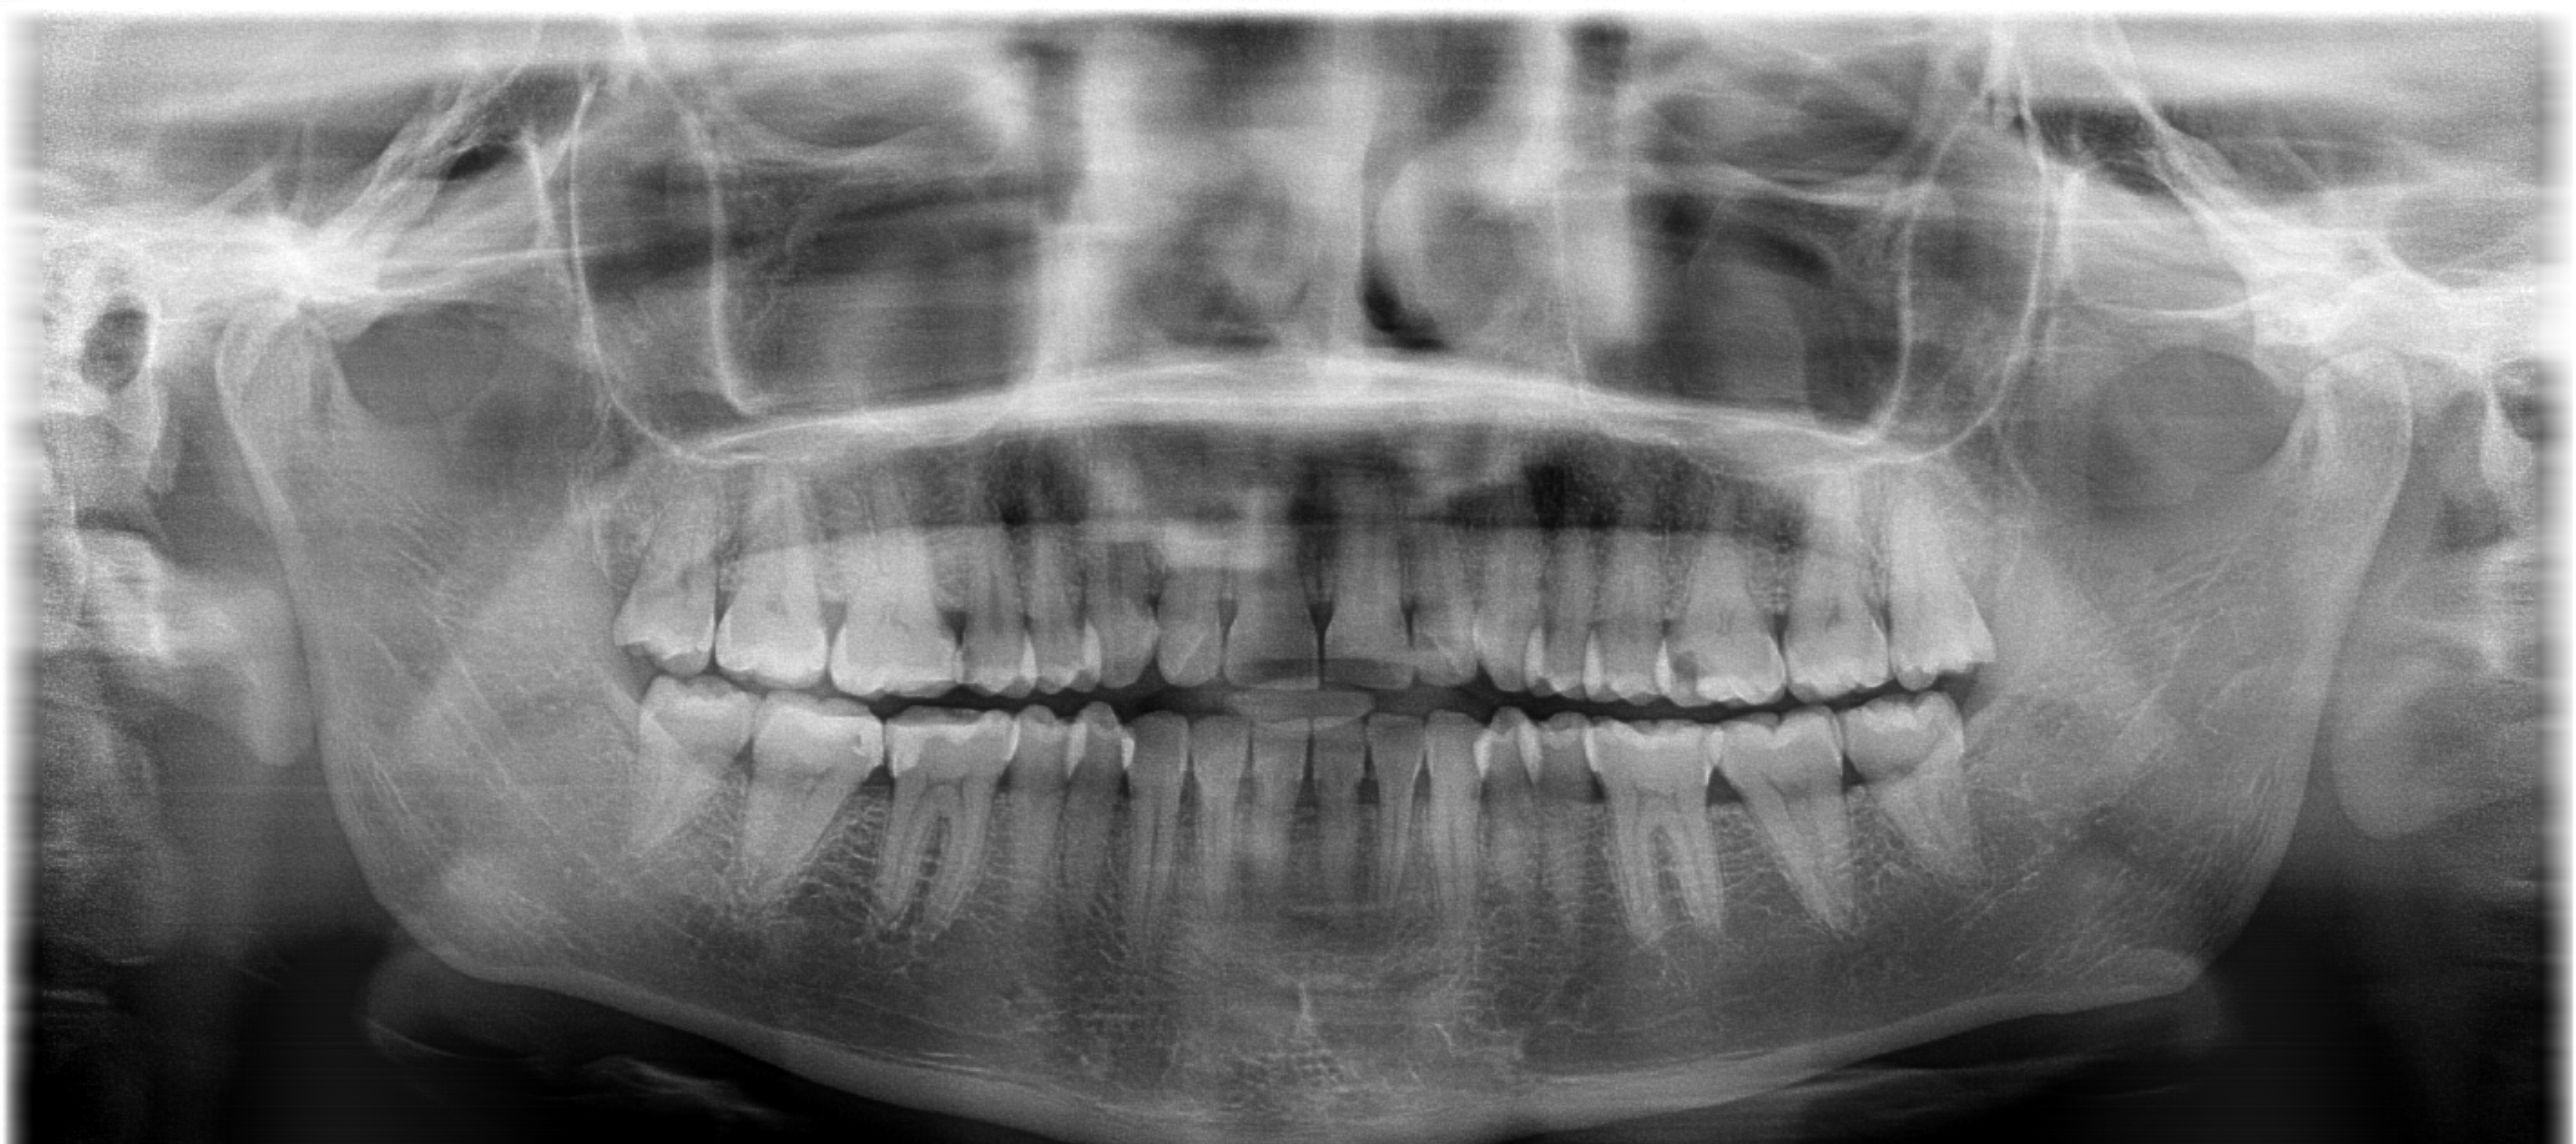cordal: (578, 471, 757, 680), (601, 668, 779, 876), (1856, 492, 2034, 701), (1830, 686, 2008, 895)
dientes_sanos: (521, 407, 2081, 937)
